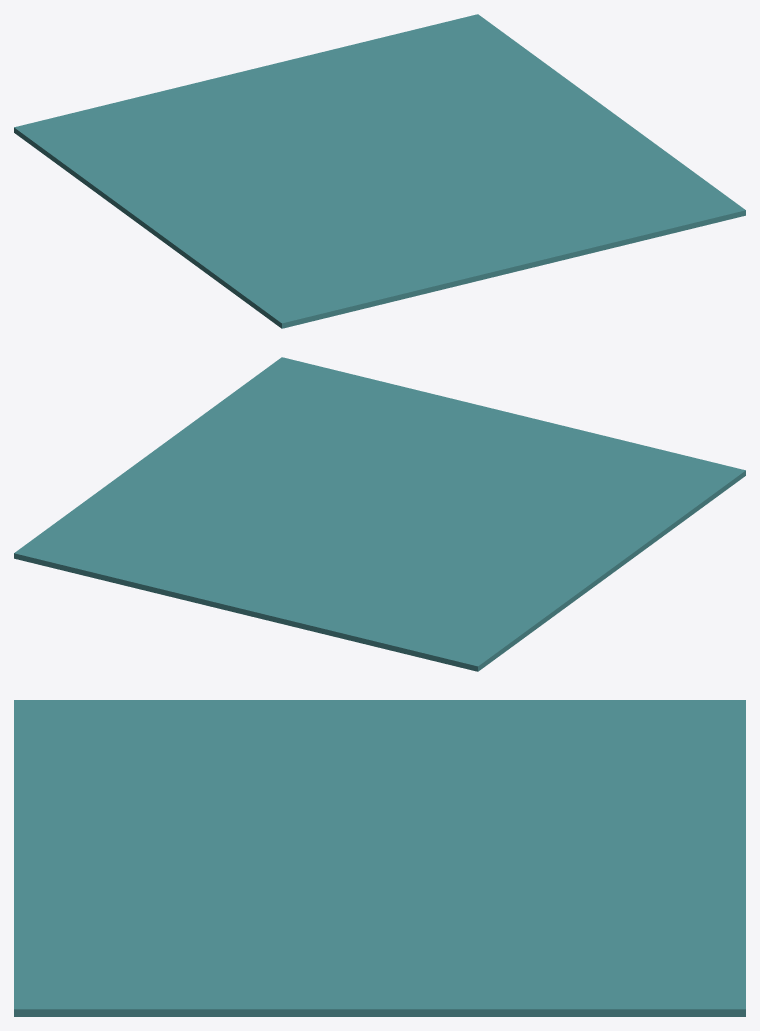
The model's file is Tek Large Cellar Door.glb.
The picture shows the model from 3 angles, top to bottom: view 1: azimuth 30°, elevation 25°; view 2: azimuth 150°, elevation 25°; view 3: azimuth 270°, elevation 25°; orthographic projection. The views are drawn at different scales.
Parts seen in each view (by area): view 1: SM_Tek_DoorCeilingLarge; view 2: SM_Tek_DoorCeilingLarge; view 3: SM_Tek_DoorCeilingLarge.
Boxes of the visible parts, x1,y1,x2,y2 form: SM_Tek_DoorCeilingLarge: (14,14,745,328); SM_Tek_DoorCeilingLarge: (14,357,745,671); SM_Tek_DoorCeilingLarge: (14,700,745,1016).
Size of the model in its own units: 9 by 0.1 by 9.
